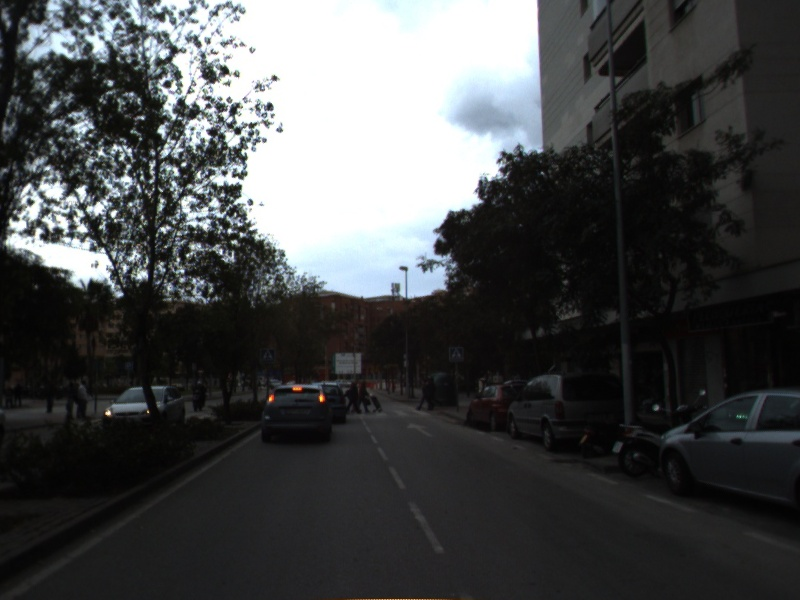STRAIGHT: (405, 420, 435, 439)
